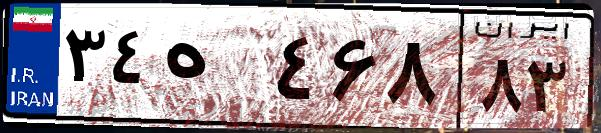3: (57, 26, 110, 100), (525, 38, 570, 115)
4: (270, 28, 330, 110), (110, 28, 158, 98)
6: (330, 28, 385, 110)
8: (385, 28, 445, 110), (475, 38, 525, 113)
ه: (158, 20, 270, 120)
